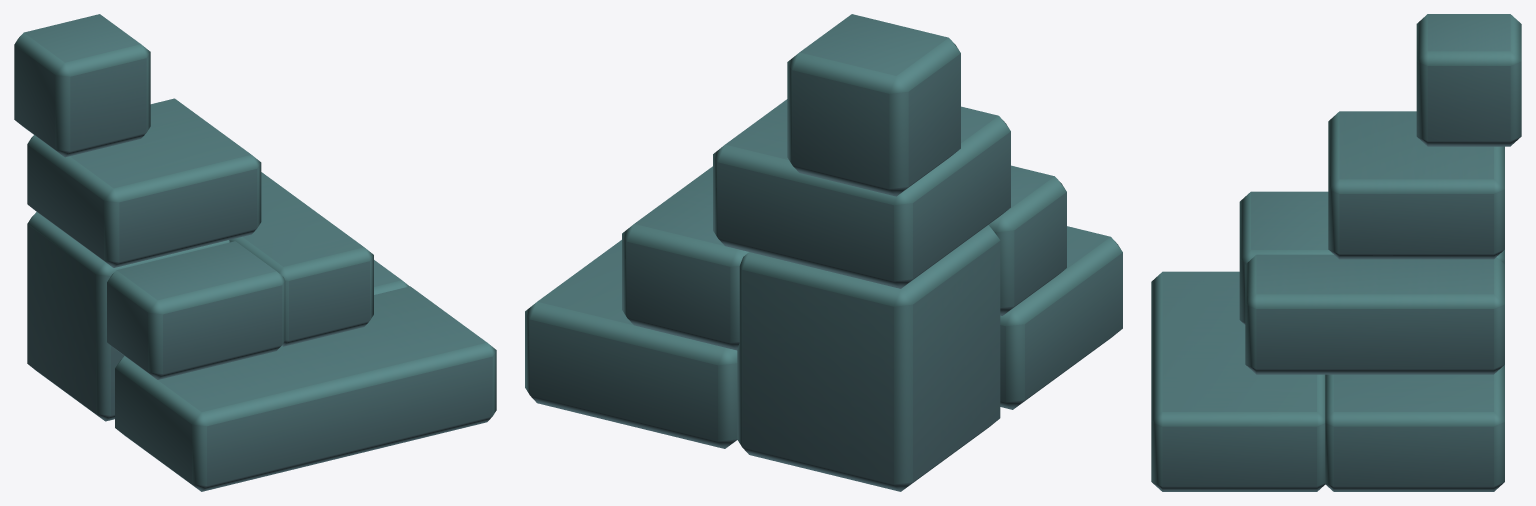
File: stair_corner_convex_hue_1.fbx
3 views of the same model, side by side, from view 1: azimuth 30°, elevation 25°; view 2: azimuth 150°, elevation 25°; view 3: azimuth 270°, elevation 25° (orthographic). The views are drawn at different scales.
Parts seen in each view (by area): view 1: stair_corner_convex_hue_1; view 2: stair_corner_convex_hue_1; view 3: stair_corner_convex_hue_1.
Boxes of the visible parts, x1,y1,x2,y2 form: stair_corner_convex_hue_1: (14,14,496,491); stair_corner_convex_hue_1: (525,14,1122,491); stair_corner_convex_hue_1: (1151,14,1521,491).
Bounding box in the file's own units: 102 × 105 × 105.
